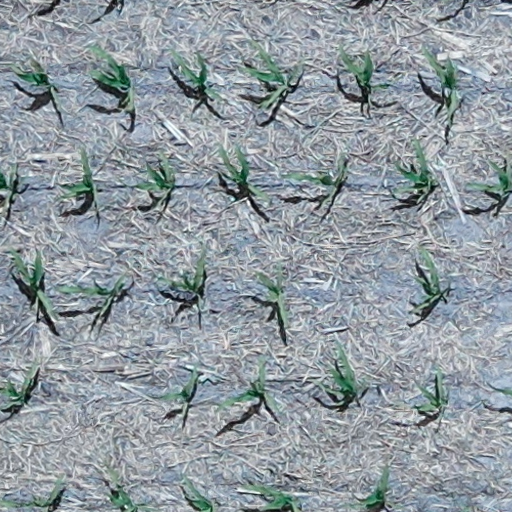planta: (236, 40, 302, 107), (279, 151, 346, 209), (213, 357, 279, 412), (9, 247, 58, 319), (115, 151, 176, 208), (85, 43, 134, 113), (421, 47, 460, 128), (53, 272, 126, 315), (390, 139, 435, 205), (158, 250, 206, 311), (4, 53, 57, 108), (169, 50, 226, 101), (146, 363, 198, 418), (348, 464, 408, 510), (337, 43, 390, 92), (51, 150, 98, 205), (218, 146, 266, 199), (316, 345, 357, 406), (411, 244, 445, 313), (254, 260, 286, 323), (410, 367, 448, 412)
